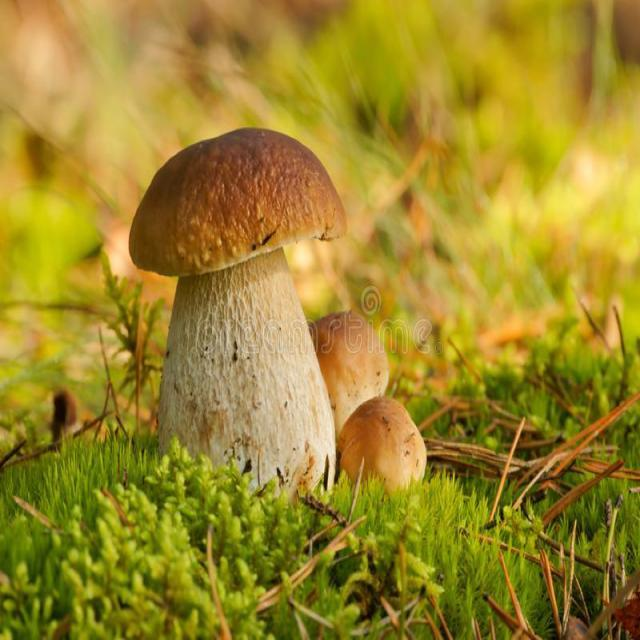Boletus: (130, 127, 346, 503), (309, 310, 395, 426), (334, 395, 426, 496)
